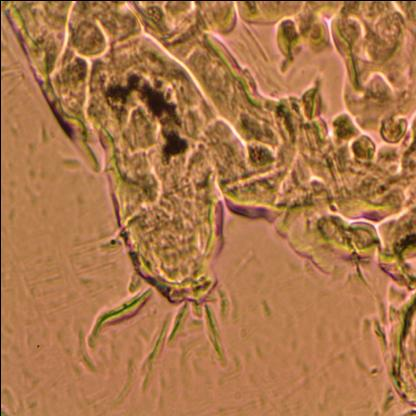Normal: (128, 0, 416, 334)
